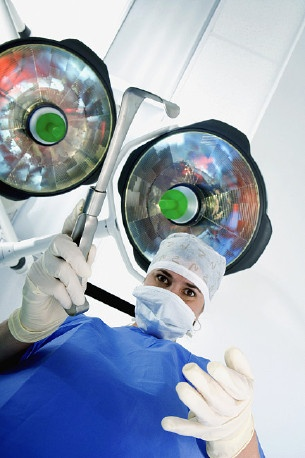Mask: (141, 264, 213, 337)
